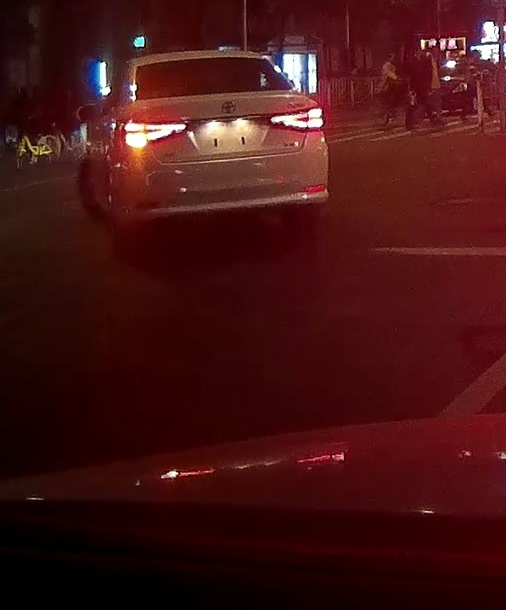L_light: (123, 121, 187, 150)
R_light: (270, 108, 324, 130)
T_light: (205, 58, 228, 64)
night-no: (122, 50, 328, 250)
